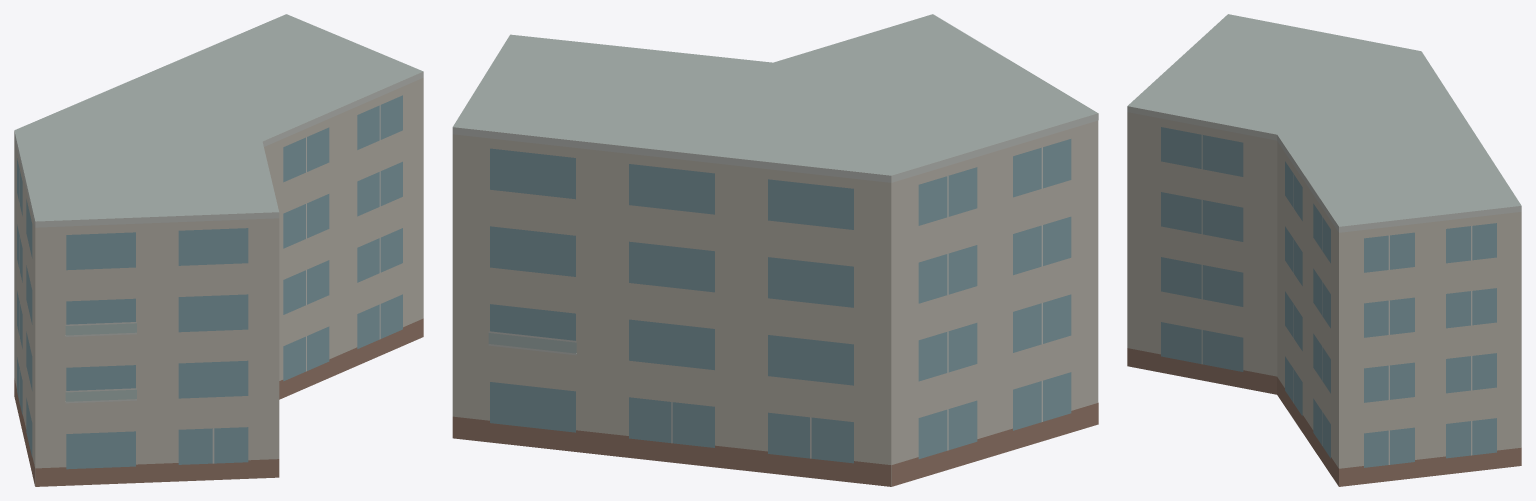
The model's file is survey-upis-32889472.glb.
3 views of the same model, side by side, from view 1: azimuth 30°, elevation 25°; view 2: azimuth 150°, elevation 25°; view 3: azimuth 270°, elevation 25° (orthographic). The views are drawn at different scales.
Visible parts, largest first — view 1: survey-upis-32889472.tmp; view 2: survey-upis-32889472.tmp; view 3: survey-upis-32889472.tmp.
Boxes of the visible parts, <box> form: survey-upis-32889472.tmp: <box>14,14,423,486</box>; survey-upis-32889472.tmp: <box>452,14,1098,486</box>; survey-upis-32889472.tmp: <box>1127,14,1521,486</box>.
Bounding box in the file's own units: 18.61 × 10.6 × 14.58.
